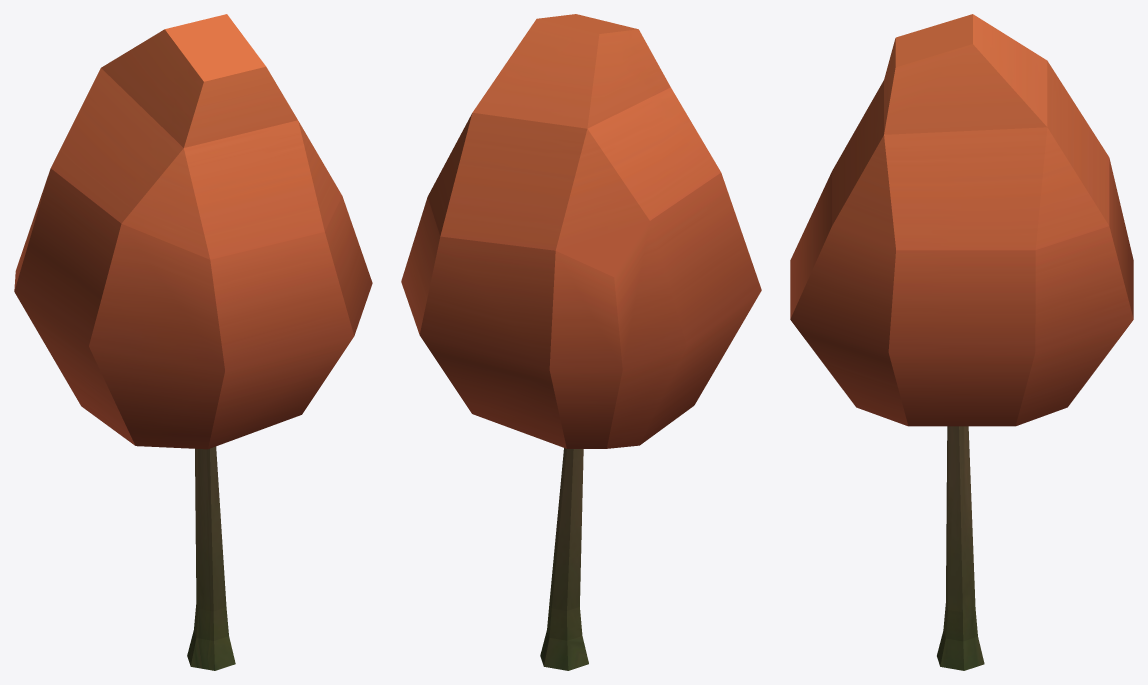
Rendered from TER_TreeOrangeNormal_Sml.glb.
3 views of the same model, side by side, from view 1: azimuth 30°, elevation 25°; view 2: azimuth 150°, elevation 25°; view 3: azimuth 270°, elevation 25° (orthographic). The views are drawn at different scales.
Visible parts, largest first — view 1: TER_TreeOrangeNormal_Sml; view 2: TER_TreeOrangeNormal_Sml; view 3: TER_TreeOrangeNormal_Sml.
Part boxes in pixels (x1,y1,x2,y2): TER_TreeOrangeNormal_Sml: (14, 14, 372, 670); TER_TreeOrangeNormal_Sml: (401, 14, 761, 670); TER_TreeOrangeNormal_Sml: (790, 14, 1133, 670).
Bounding box in the file's own units: 5.5 × 11.77 × 5.85.
1 material, 1 textured.
